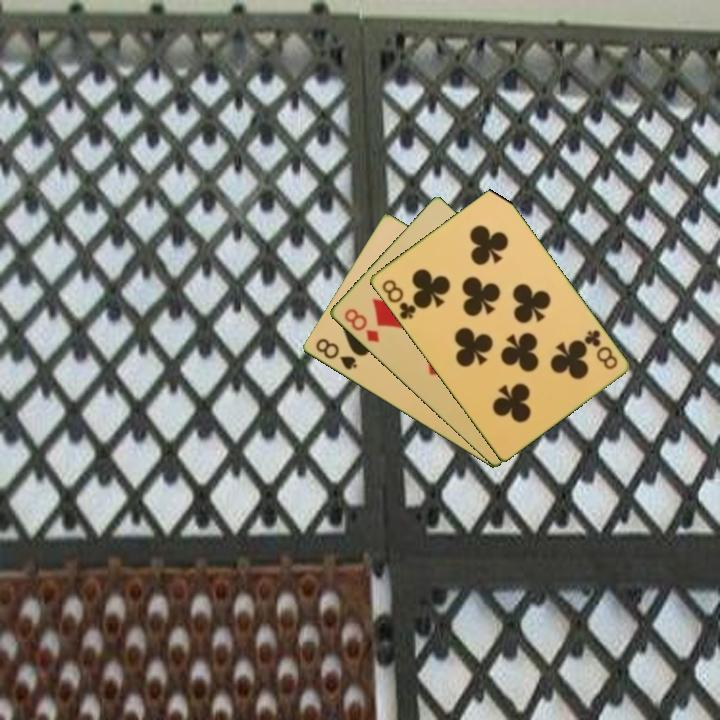8c: (378, 276, 419, 322), (580, 326, 620, 373)
8d: (340, 305, 382, 346)
8s: (311, 335, 360, 373)
